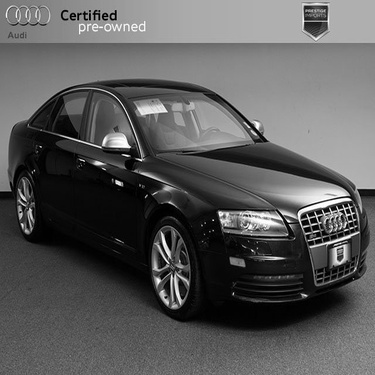car: (1, 70, 369, 328)
